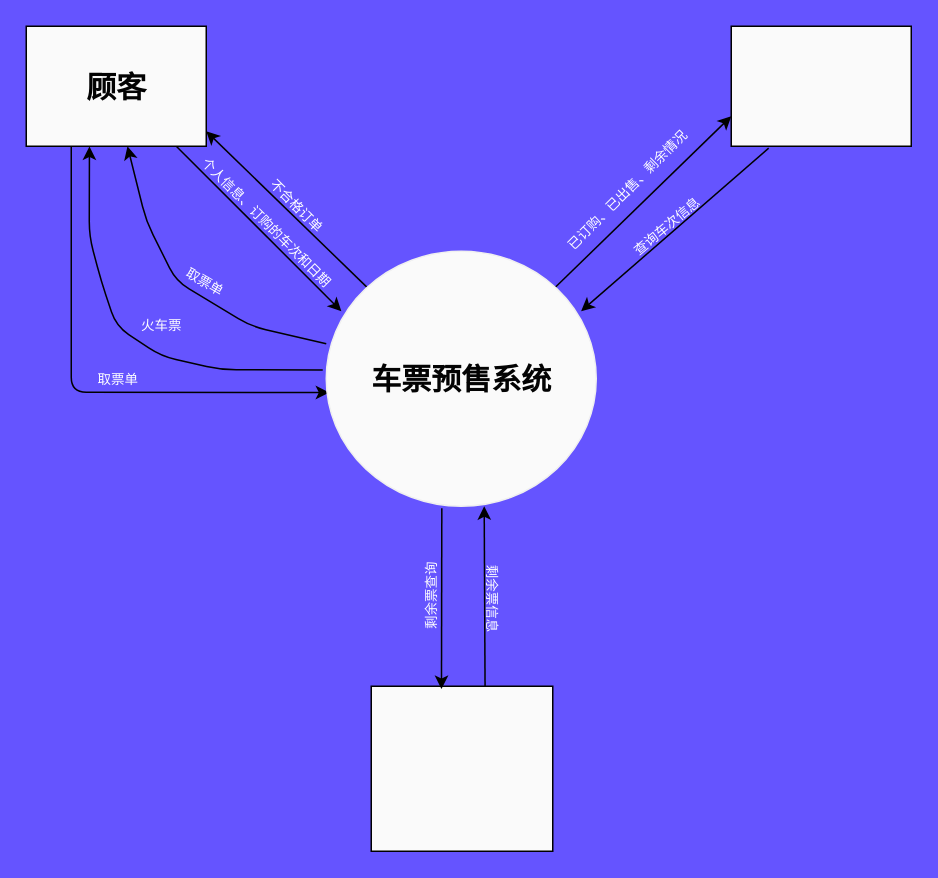
The diagram is 938 pixels wide and 878 high, and some of its shapes have lost their labels. Each missing label, with the centre of its shape:
"售票员" goes at point (820, 85).
"座位表" goes at point (461, 768).
